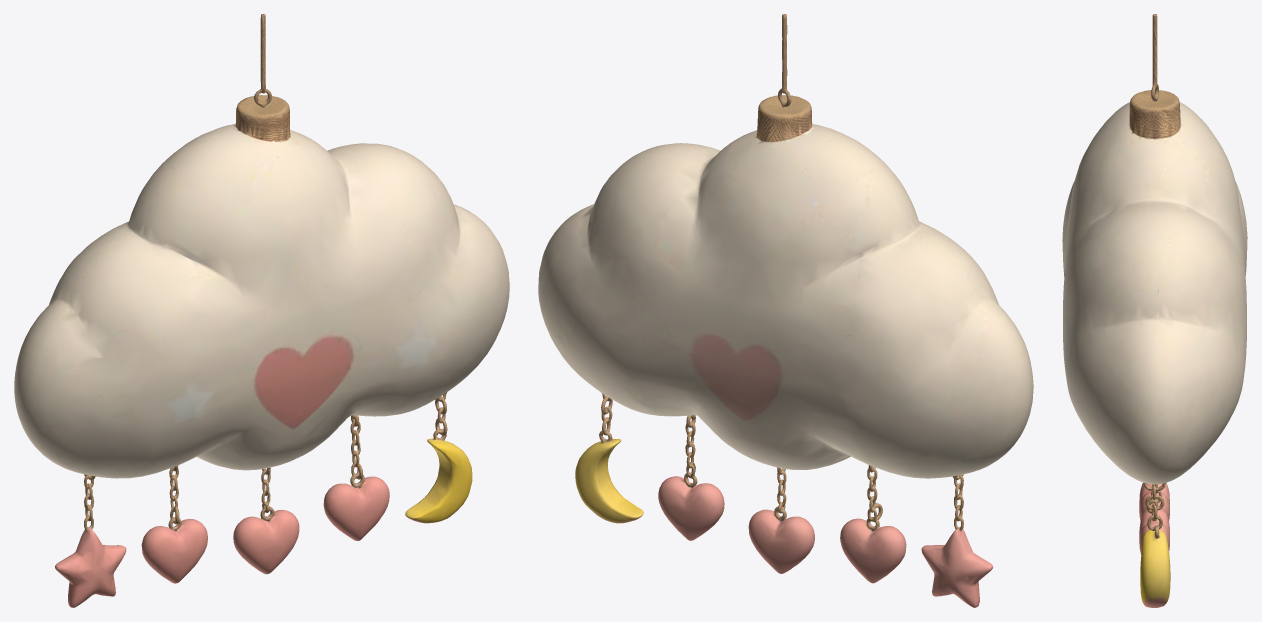
The picture shows the model from 3 angles, left to right: view 1: azimuth 30°, elevation 25°; view 2: azimuth 150°, elevation 25°; view 3: azimuth 270°, elevation 25°; orthographic projection. The views are drawn at different scales.
Bounding box in the file's own units: 1.72 × 1.9 × 0.6086.
1 material, 1 textured.
